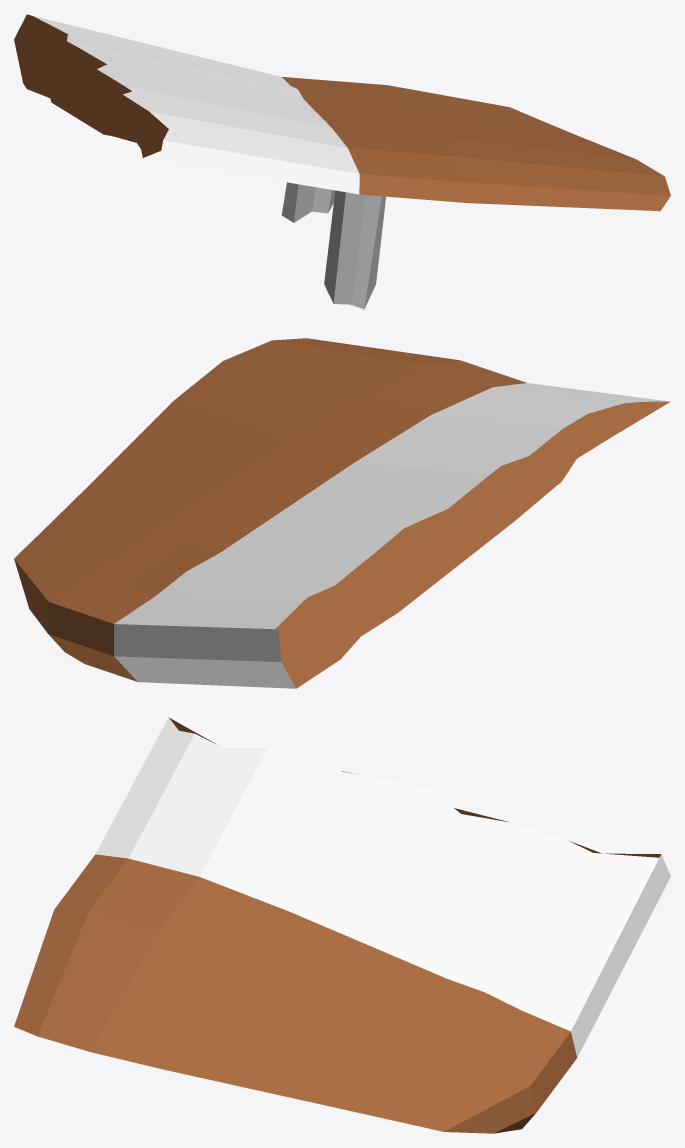
File: Flügel_2.fbx
The picture shows the model from 3 angles, top to bottom: view 1: azimuth 30°, elevation 25°; view 2: azimuth 150°, elevation 25°; view 3: azimuth 270°, elevation 25°; orthographic projection. The views are drawn at different scales.
Visible parts, largest first — view 1: Flieger.001; view 2: Flieger.001; view 3: Flieger.001.
Part boxes in pixels (x1=…): Flieger.001: x1=14, y1=14, x2=670, y2=309; Flieger.001: x1=14, y1=338, x2=670, y2=688; Flieger.001: x1=14, y1=717, x2=670, y2=1133.
Size of the model in its own units: 209 by 93.34 by 239.
